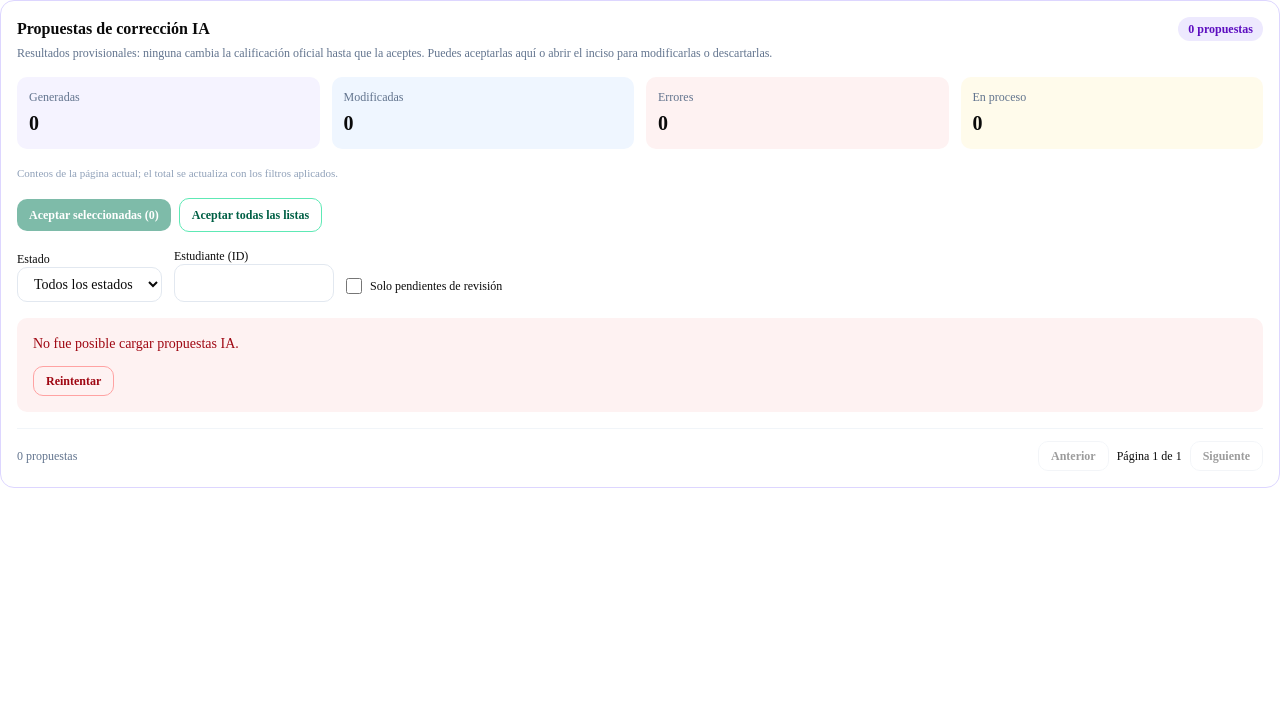
Test: BandejaCorreccionesIa › expone el error de carga y permite reintentar
Check: the text "No fue posible cargar propuestas IA." is shown, box [33, 336, 239, 350]
Click the button "Reintentar".
click(74, 380)  # box [33, 366, 114, 396]
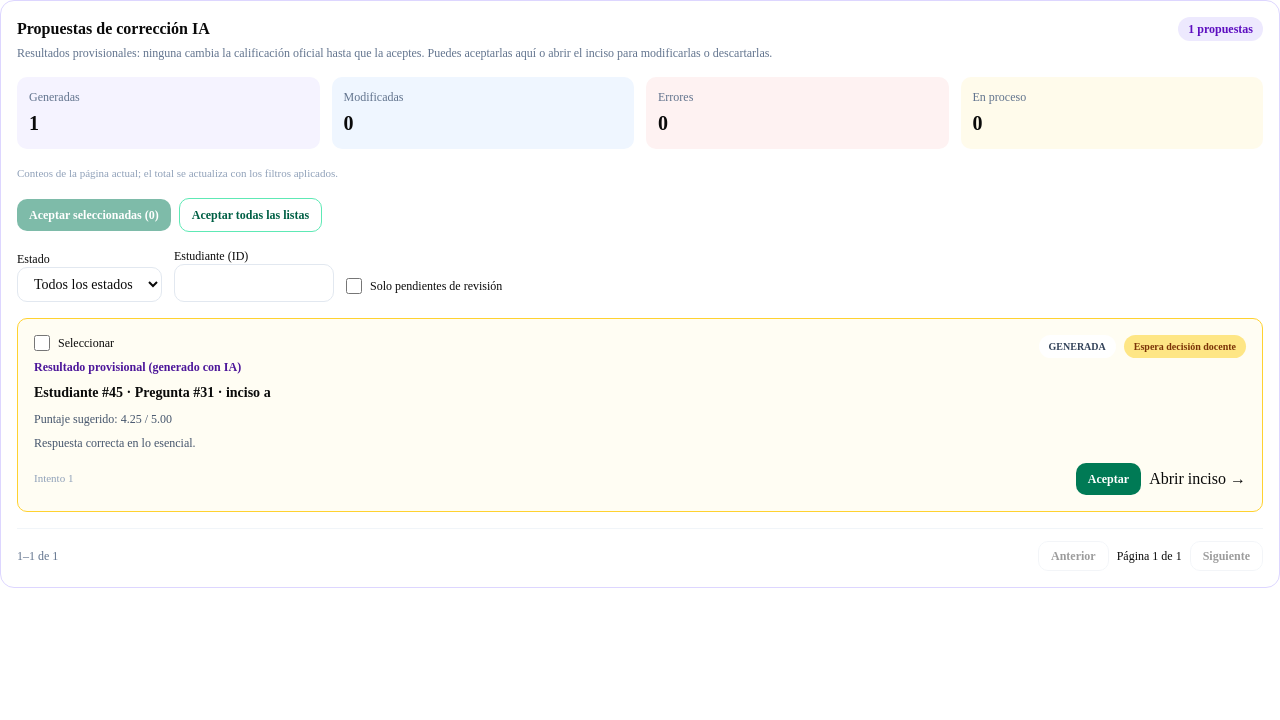
Check: the text "Resultado provisional (generado con IA)" is shown, box [34, 358, 271, 374]
